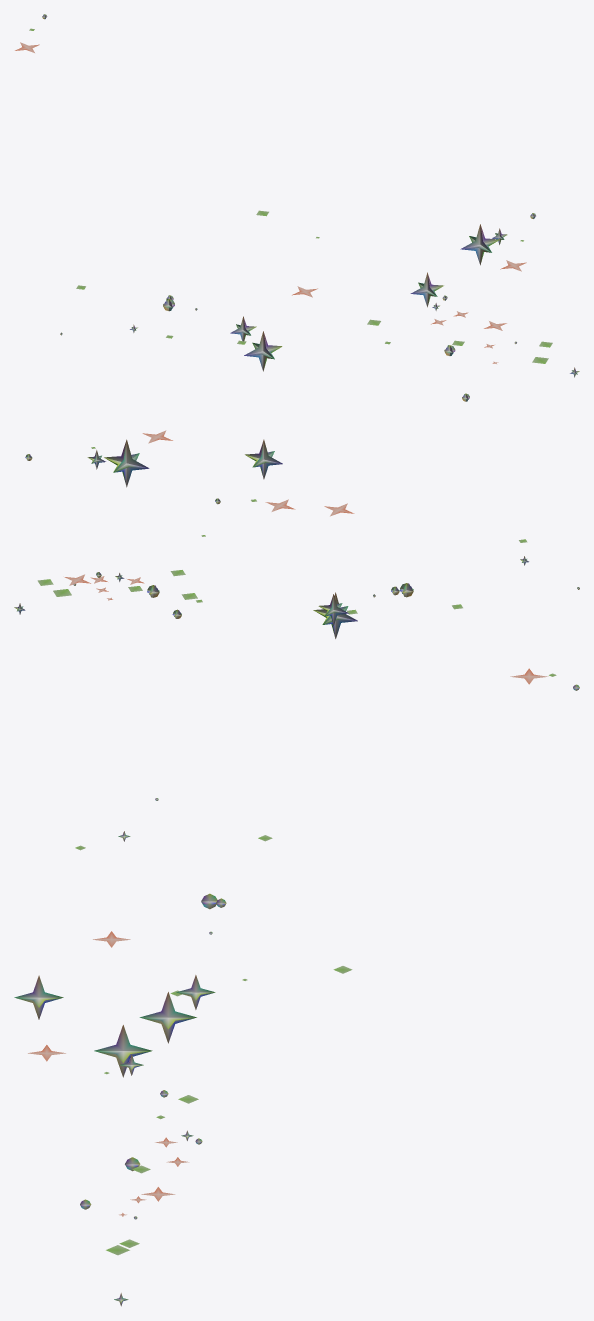
The model's file is space-stars-star-cluster_v4.fbx.
3 renders of one model, top to bottom at view 1: azimuth 30°, elevation 25°; view 2: azimuth 150°, elevation 25°; view 3: azimuth 270°, elevation 25°, orthographic. The views are drawn at different scales.
Parts seen in each view (by area): view 1: Star Cluster_v4; view 2: Star Cluster_v4; view 3: Star Cluster_v4.
Part boxes in pixels (x1,y1,x2,y2): Star Cluster_v4: [15, 14, 579, 401]; Star Cluster_v4: [14, 430, 579, 638]; Star Cluster_v4: [14, 668, 579, 1306].
Bounding box in the file's own units: 0.5 × 0.3007 × 0.3813.
